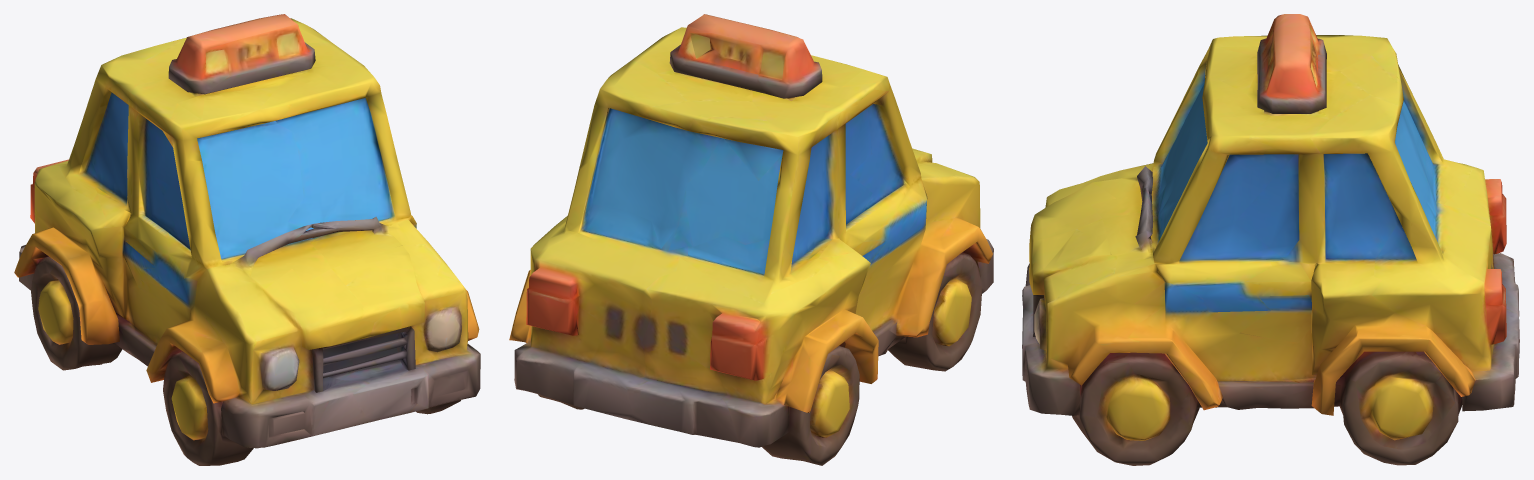
The model's file is taxi.glb.
3 views of the same model, side by side, from view 1: azimuth 30°, elevation 25°; view 2: azimuth 150°, elevation 25°; view 3: azimuth 270°, elevation 25° (orthographic). The views are drawn at different scales.
Parts seen in each view (by area): view 1: tripo_node_62ee0119-507a-4276-ad5a-26d611560eec; view 2: tripo_node_62ee0119-507a-4276-ad5a-26d611560eec; view 3: tripo_node_62ee0119-507a-4276-ad5a-26d611560eec.
Part boxes in pixels (x1,y1,x2,y2): tripo_node_62ee0119-507a-4276-ad5a-26d611560eec: [14, 14, 480, 465]; tripo_node_62ee0119-507a-4276-ad5a-26d611560eec: [509, 14, 993, 465]; tripo_node_62ee0119-507a-4276-ad5a-26d611560eec: [1022, 14, 1519, 465].
Bounding box in the file's own units: 0.6966 × 0.8158 × 1.
Materials: 1 (1 with a texture image).
